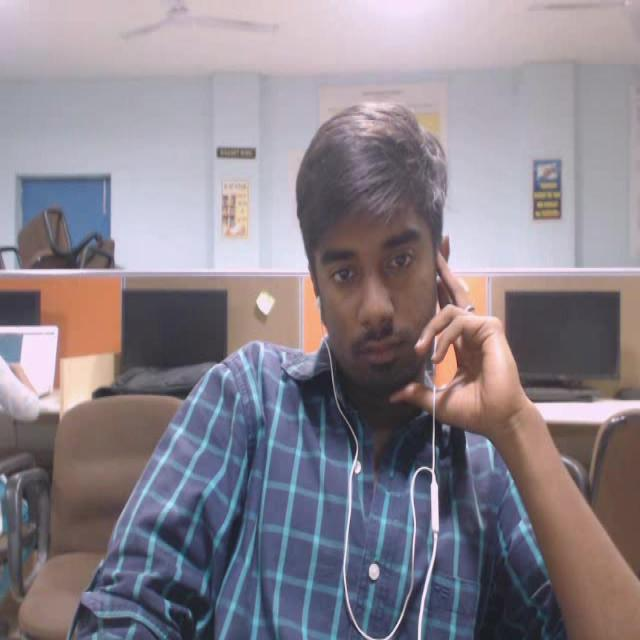Engaged: (296, 82, 453, 406)
